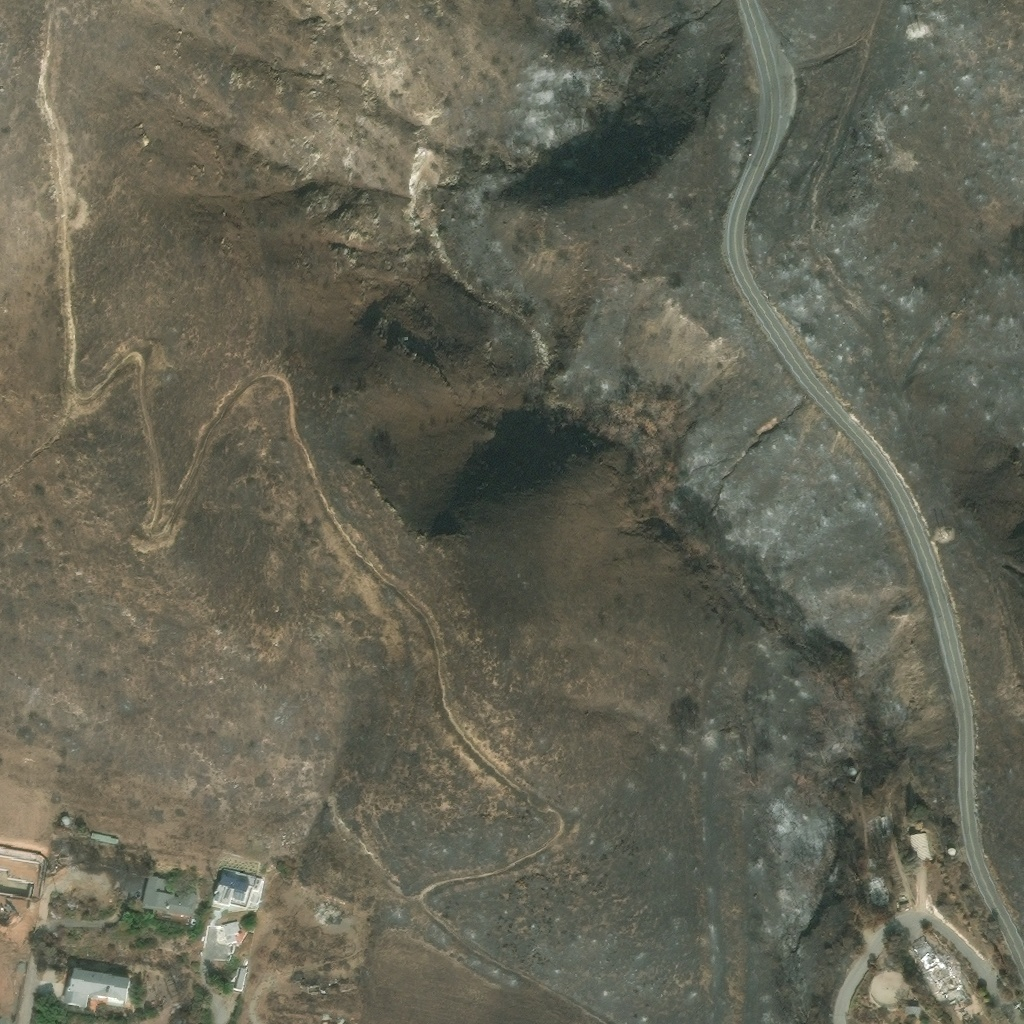0 no-damage: (61, 967, 131, 1012), (139, 874, 196, 919), (212, 868, 265, 910), (0, 867, 36, 900), (907, 832, 931, 861), (233, 966, 247, 991), (91, 832, 118, 844), (59, 815, 70, 826), (908, 1005, 919, 1014), (947, 847, 956, 854)
3 destroyed: (921, 954, 969, 1007), (863, 876, 887, 904), (909, 938, 935, 963), (878, 811, 887, 832)
